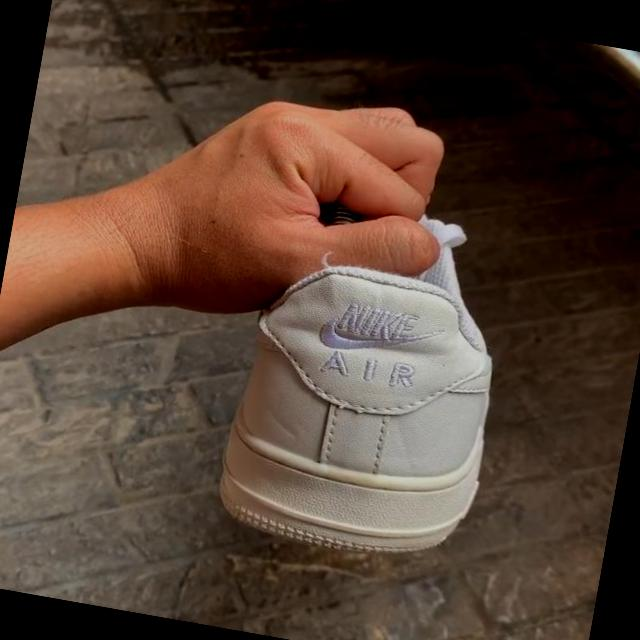nike_fake_airforce: (208, 196, 530, 582)
